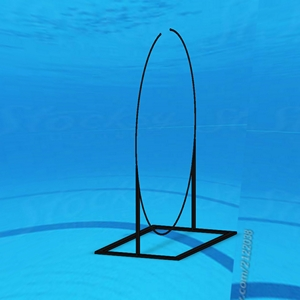circle: (94, 26, 239, 262)
